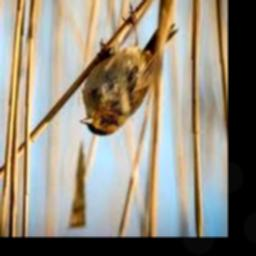Sparrow: (80, 6, 178, 137)
